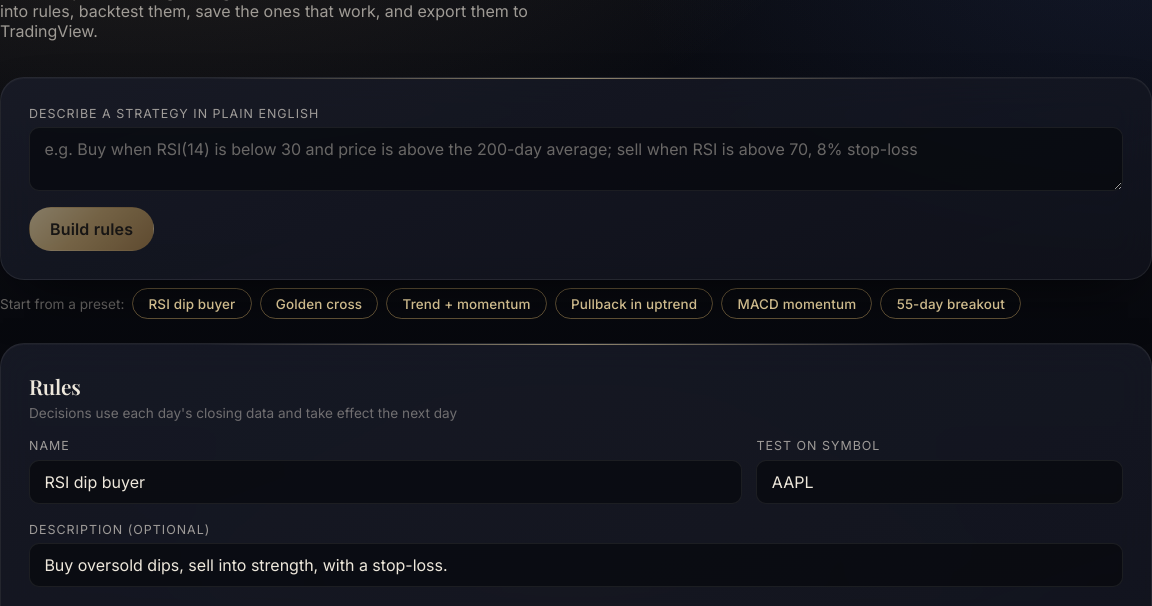
Test: Strategy builder from text › fills the rules from a plain-English description
Replace the text in the text box labelled "Describe a strategy in plain English" with "buy when rsi(2) is below 10, 5% stop": (576, 159) [29,127,1123,191]
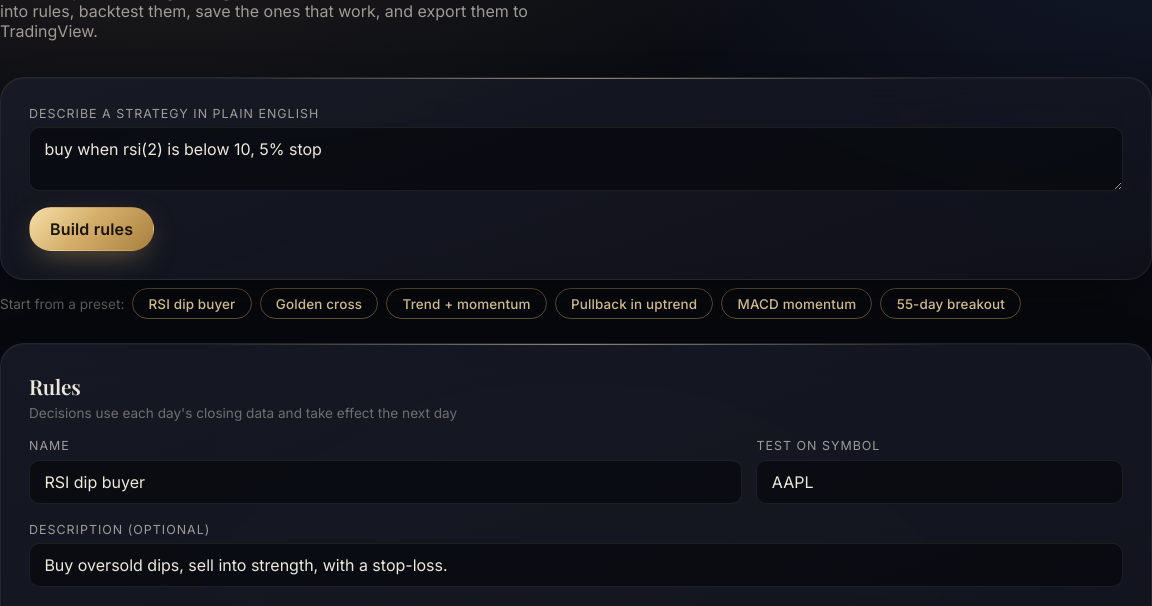
Click the button "Build rules": click(92, 229) [29,207,154,251]
(page scrolled)
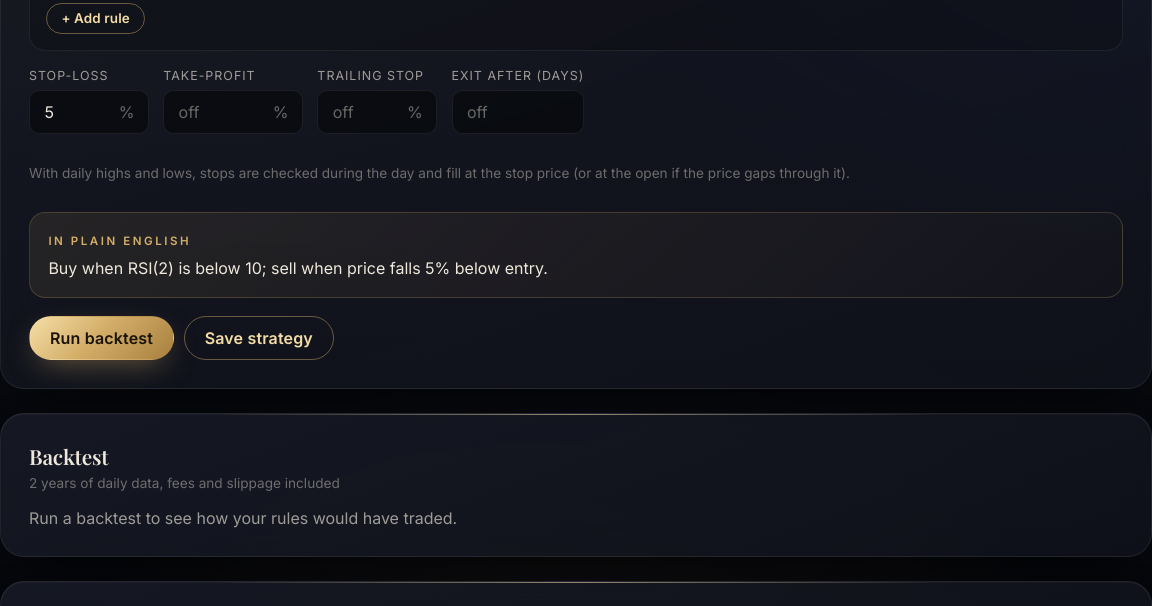
Expected: the text "Buy when RSI(2) is below 10; sell when price falls 5% below entry." is shown, [48,258,548,278]
